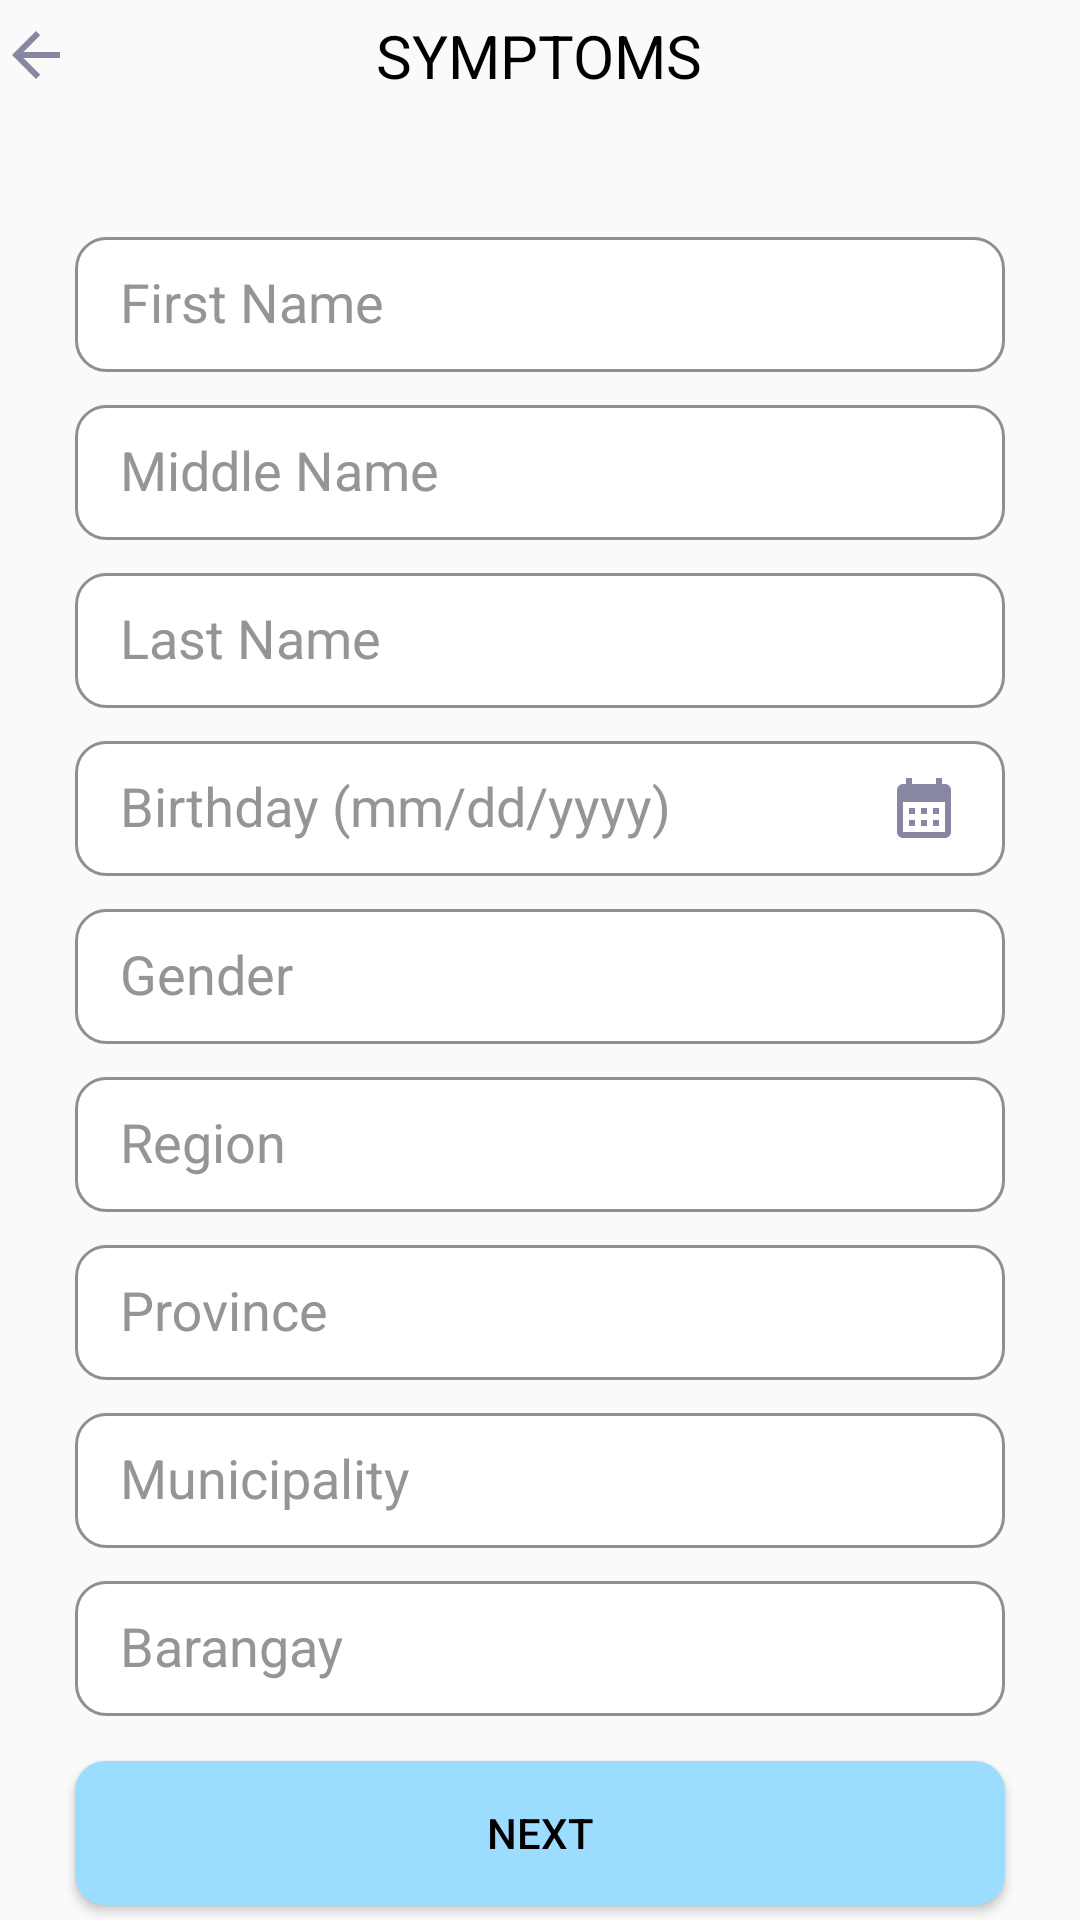

Screen size 1080x1920. Icon name, then its center in pixels as (x=x, y=y):
back: (x=36, y=55)
